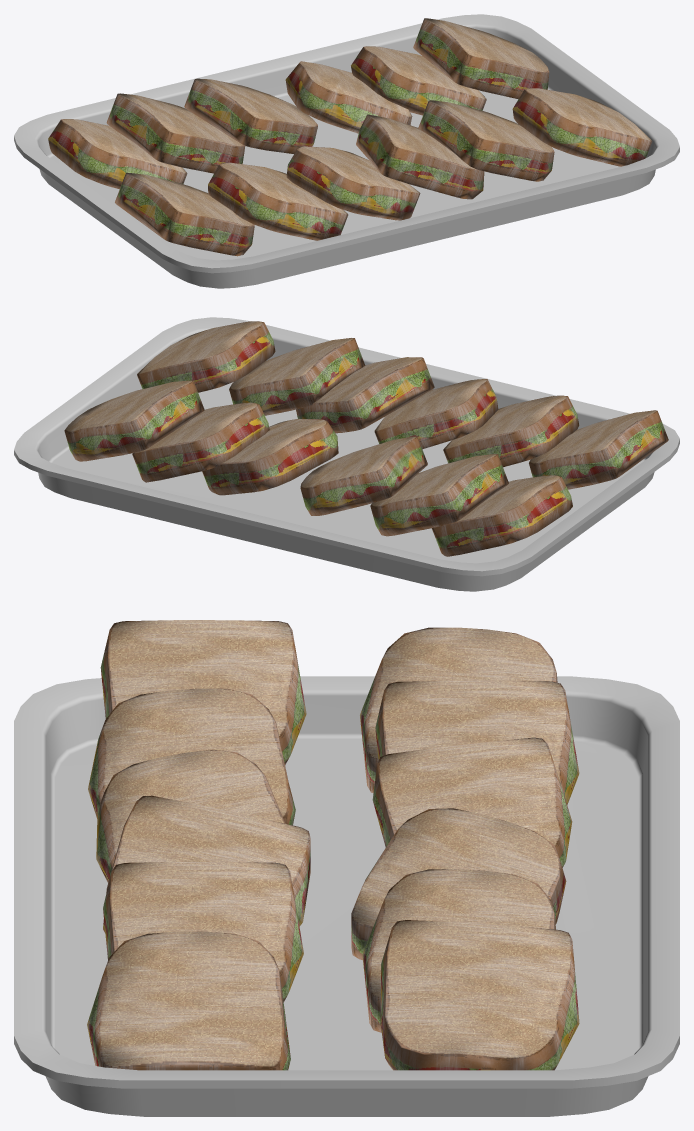
Rendered from sandwitch_tray.fbx.
The picture shows the model from 3 angles, top to bottom: view 1: azimuth 30°, elevation 25°; view 2: azimuth 150°, elevation 25°; view 3: azimuth 270°, elevation 25°; orthographic projection. The views are drawn at different scales.
Parts seen in each view (by area): view 1: sandwitch_tray_LOD0; view 2: sandwitch_tray_LOD0; view 3: sandwitch_tray_LOD0.
Part boxes in pixels (bbox=[...]): sandwitch_tray_LOD0: bbox=[14, 14, 679, 288]; sandwitch_tray_LOD0: bbox=[14, 317, 679, 591]; sandwitch_tray_LOD0: bbox=[14, 620, 679, 1116].
Size of what is drawn, in the model's own units: 0.6768 by 0.0987 by 0.4716.
